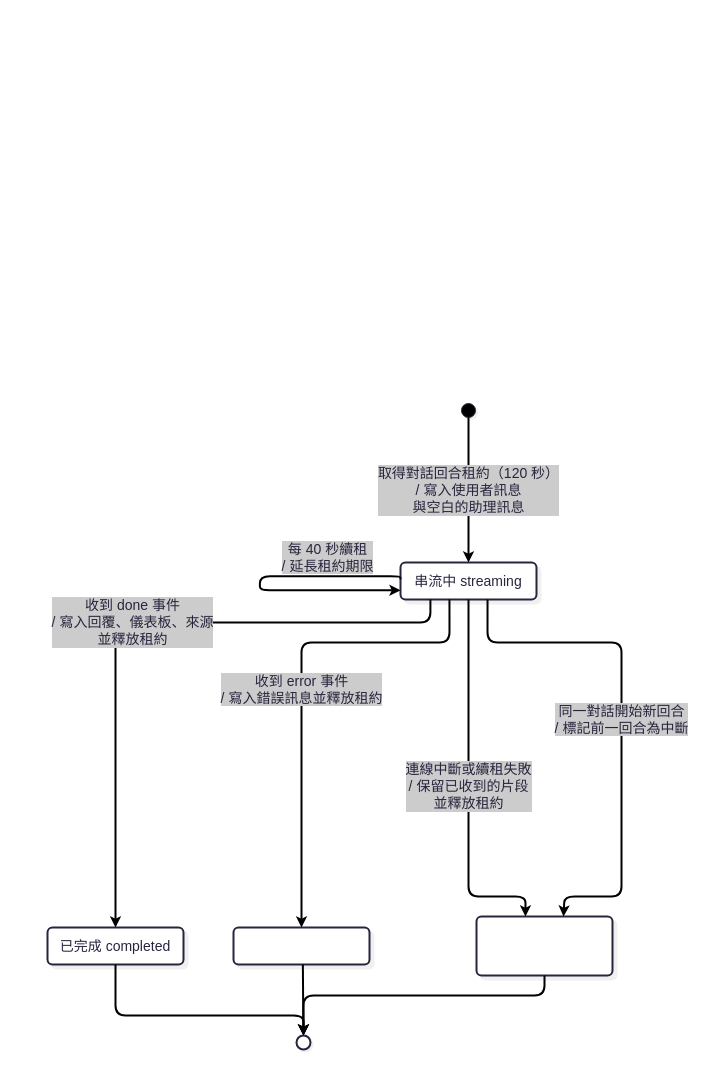
Some shapes in this 705 by 1069 pixel diagram are drawn without their labels. The centre of each missing label's shape, as x and y in pixels:
"失敗 failed" goes at (x=303, y=947).
"已中斷 interrupted" goes at (x=546, y=947).
